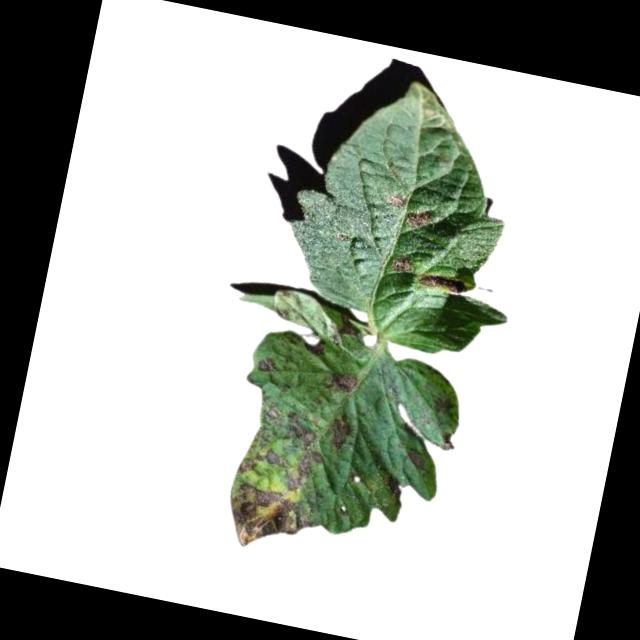Early_blight: (222, 479, 317, 557), (283, 444, 329, 497), (237, 444, 285, 482), (283, 407, 322, 446), (329, 407, 360, 450), (418, 270, 467, 295), (328, 312, 361, 348), (402, 206, 439, 236), (326, 367, 359, 398), (403, 444, 432, 474), (431, 395, 459, 421), (394, 251, 418, 277), (256, 354, 283, 375), (384, 189, 410, 210)
